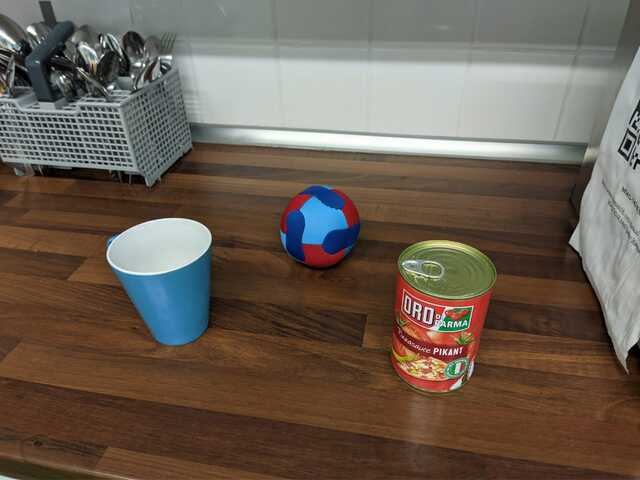005_tomato_soup_can: (389, 238, 497, 395)
025_mug: (104, 216, 213, 347)
057_racquetball: (280, 184, 362, 270)
